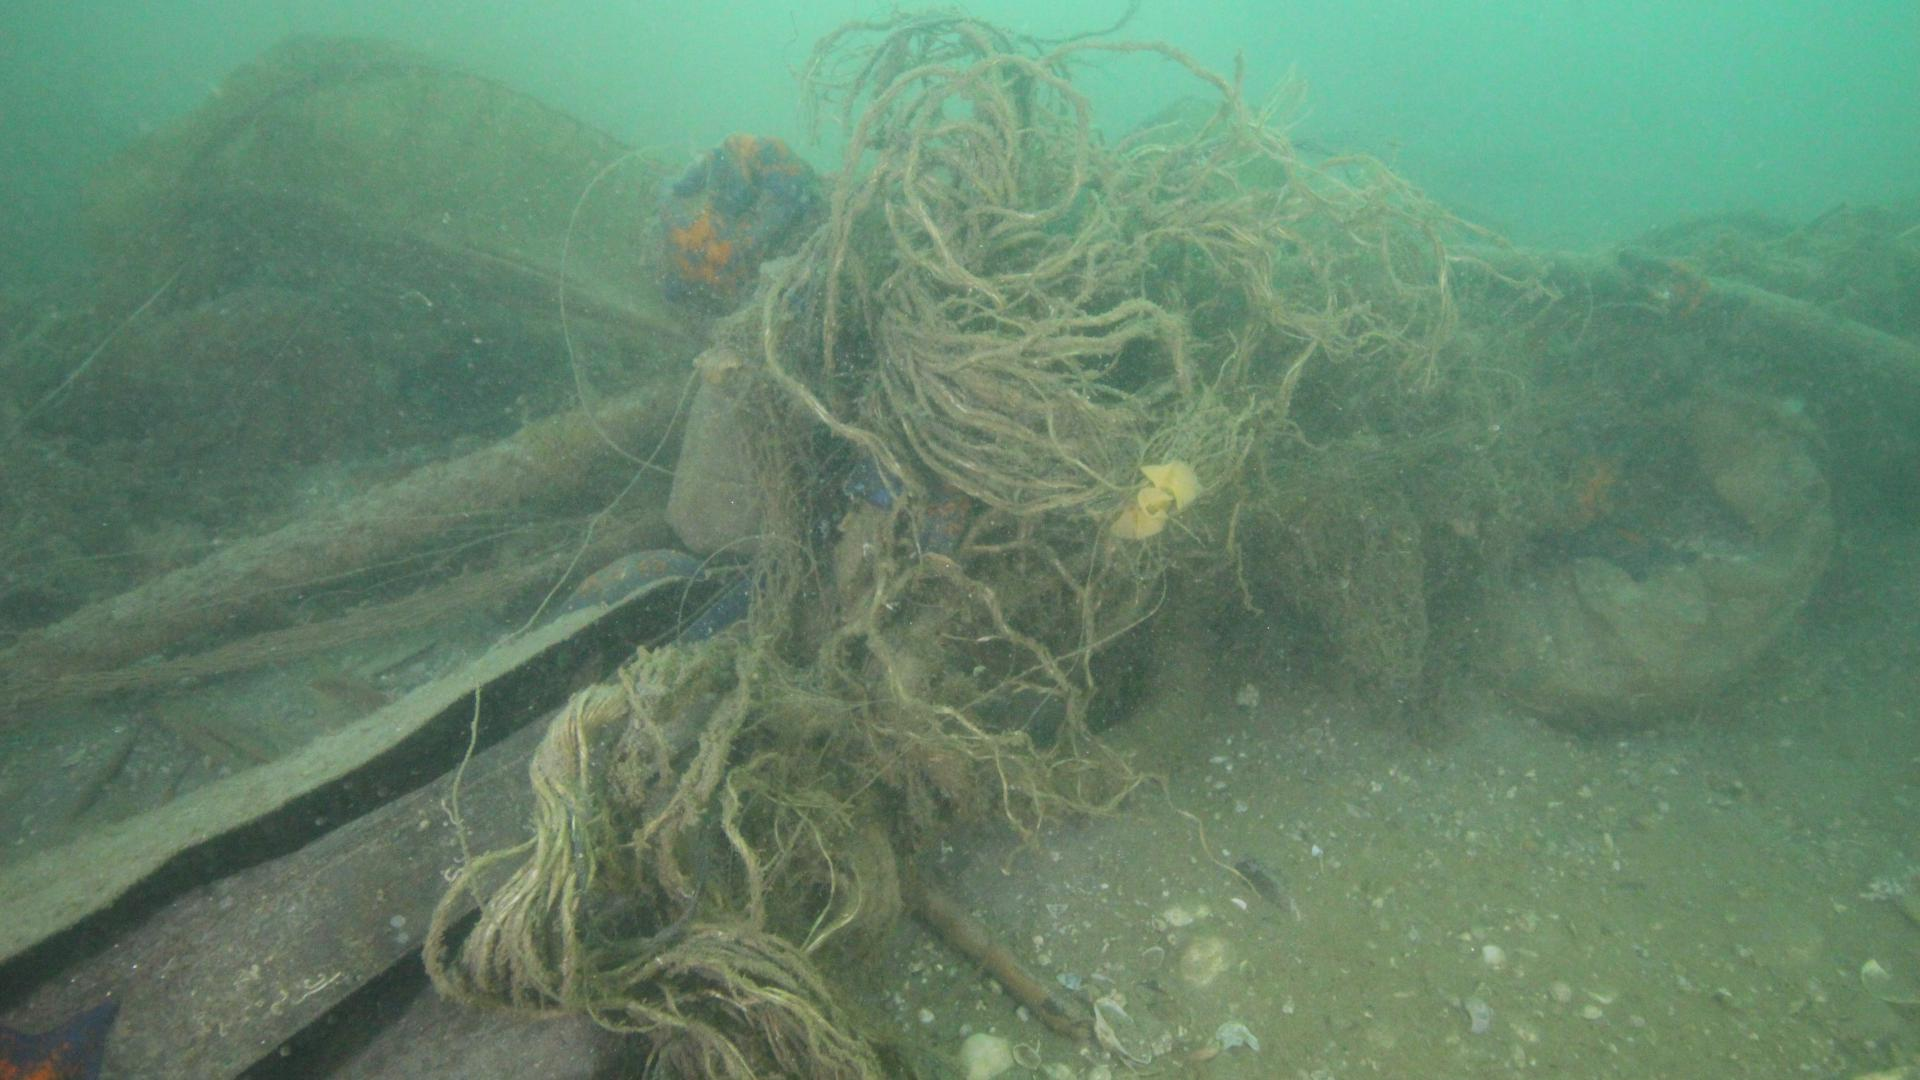rope: (0, 371, 688, 684)
